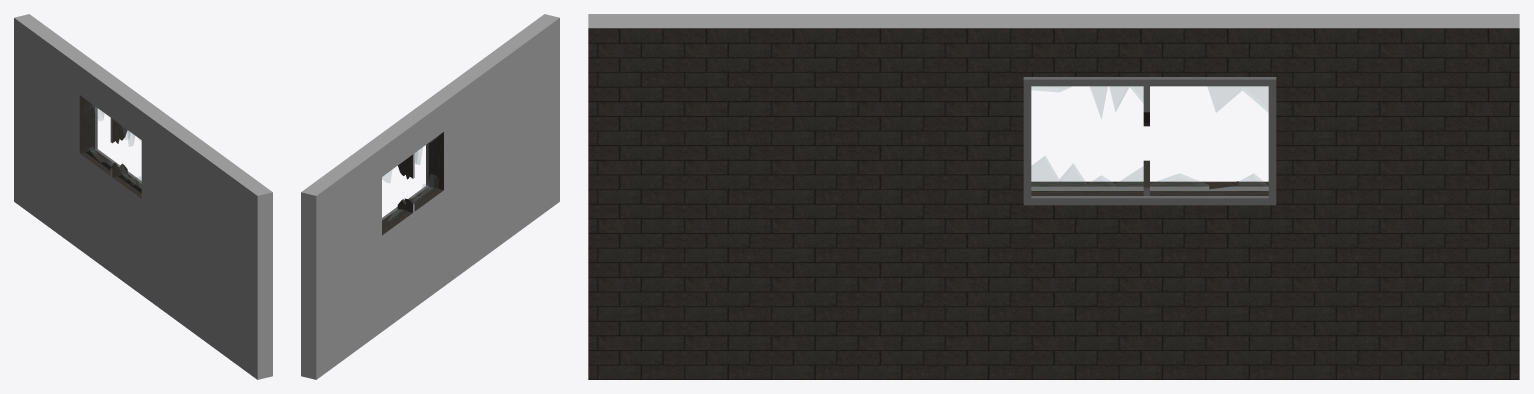
The model's file is Dungeon_Wall_Window.fbx.
3 renders of one model, left to right at view 1: azimuth 30°, elevation 25°; view 2: azimuth 150°, elevation 25°; view 3: azimuth 270°, elevation 25°, orthographic. The views are drawn at different scales.
Visible parts, largest first — view 1: Dungeon_Wall_Window; view 2: Dungeon_Wall_Window; view 3: Dungeon_Wall_Window.
Part boxes in pixels (bbox=[...]): Dungeon_Wall_Window: bbox=[14, 14, 272, 379]; Dungeon_Wall_Window: bbox=[301, 14, 559, 379]; Dungeon_Wall_Window: bbox=[588, 14, 1519, 379].
Size of the model in its own units: 51.41 by 500 by 1200.
